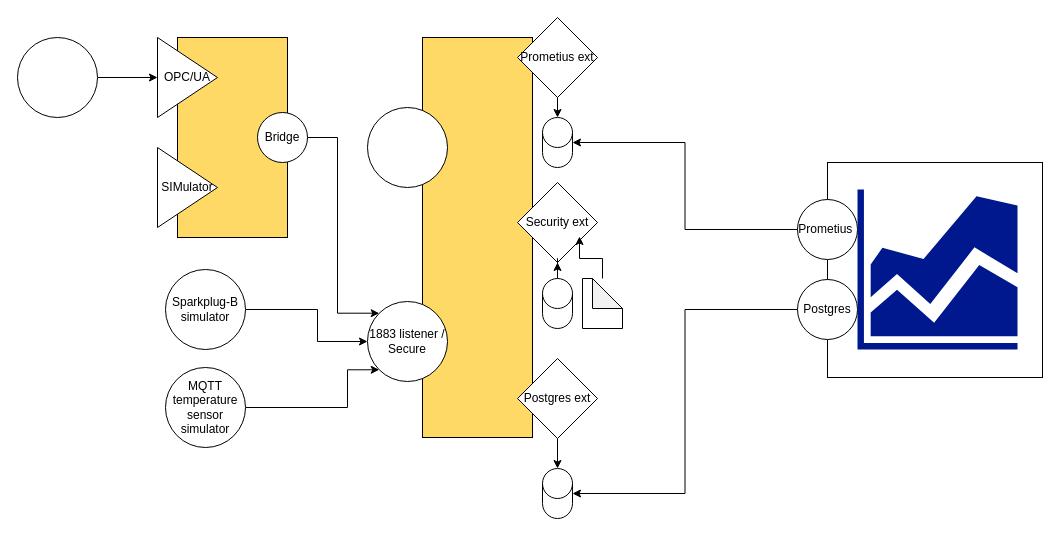
Some shapes in this 1060 by 536 pixel diagram are drawn without their labels. The shapes that lost their labels are listed below. From the top down, each one's box as (x1, y1, x2, y2) in pixels, then its label:
(16, 36, 98, 118): OPC/UA server simulator
(176, 36, 288, 238): Edge Gateway
(366, 106, 448, 188): 8883 TLS listener / Secure
(422, 36, 532, 438): Core broker
(857, 189, 1017, 349): Grafana
